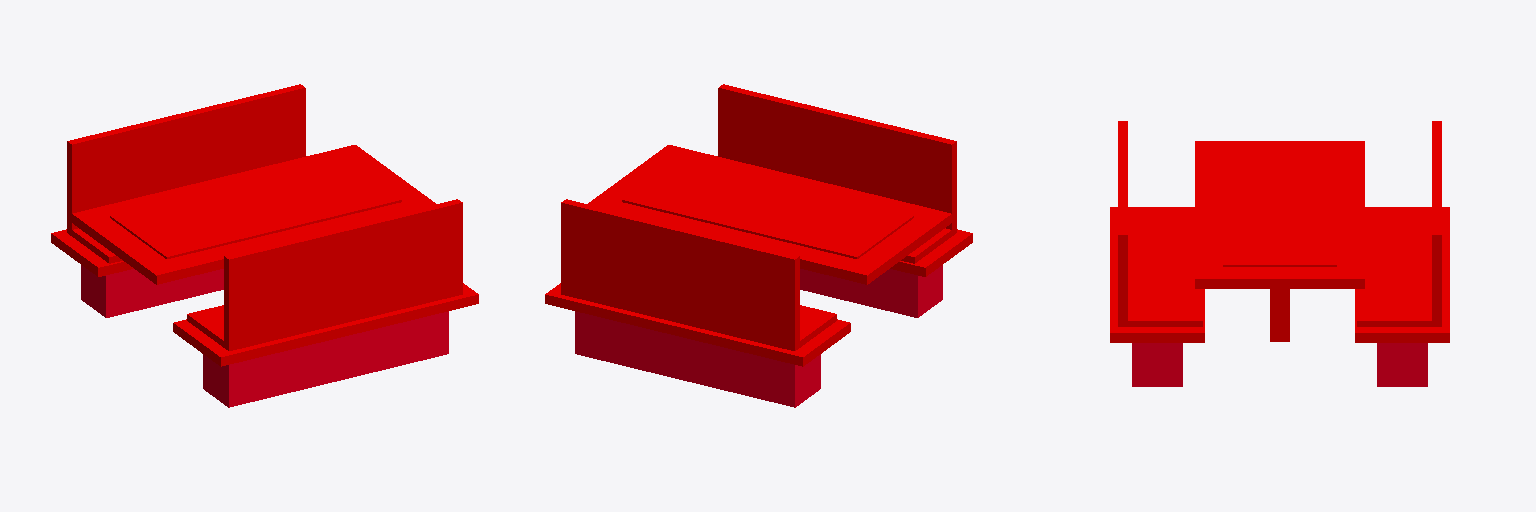
The model's file is basicBooth.obj.
3 renders of one model, left to right at view 1: azimuth 30°, elevation 25°; view 2: azimuth 150°, elevation 25°; view 3: azimuth 270°, elevation 25°, orthographic.
Parts seen in each view (by area): view 1: Booth1_Cube.007; view 2: Booth1_Cube.007; view 3: Booth1_Cube.007.
Boxes of the visible parts, box(x1,y1,x2,y2) form: Booth1_Cube.007: box(51, 84, 478, 407); Booth1_Cube.007: box(545, 84, 972, 407); Booth1_Cube.007: box(1110, 121, 1449, 386).
Size of the model in its own units: 0.8492 by 0.4689 by 0.8806.